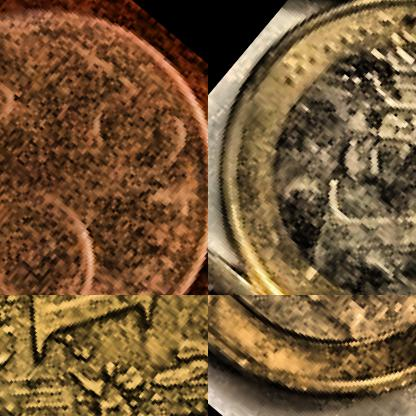coin: (0, 0, 207, 294), (208, 0, 415, 294), (0, 295, 207, 415), (208, 295, 415, 415)
